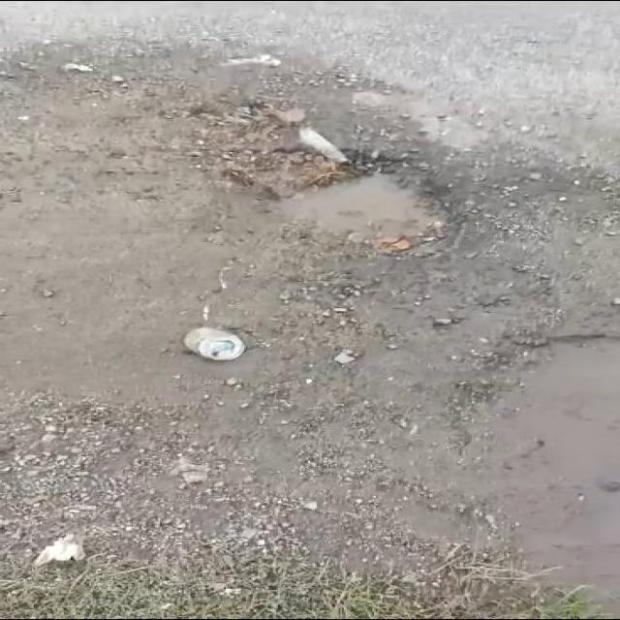lubang: (469, 307, 619, 615), (210, 102, 445, 253)
